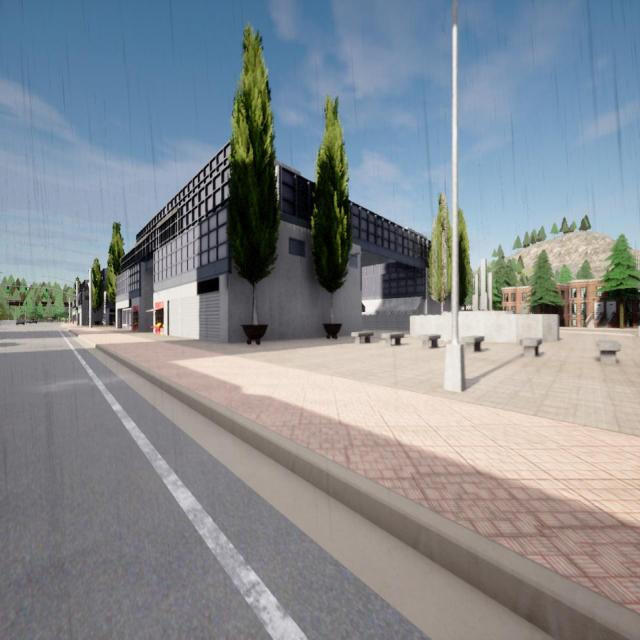Vehicle: (26, 317, 37, 323), (16, 318, 25, 325)
traffic_light: (7, 286, 9, 293), (25, 287, 27, 294), (46, 288, 48, 294), (76, 307, 78, 312)
